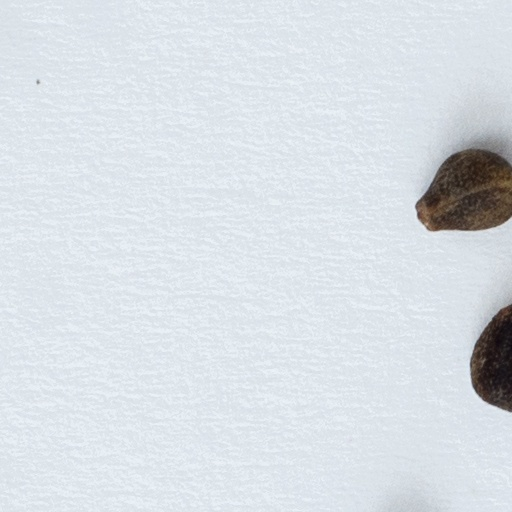Convolvulus-poly: (412, 144, 511, 232), (469, 298, 511, 413)
